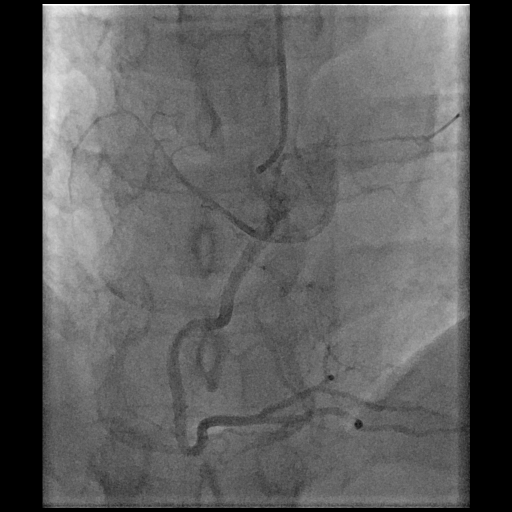RCA: (167, 165, 363, 456)
catherter: (256, 5, 288, 174)
